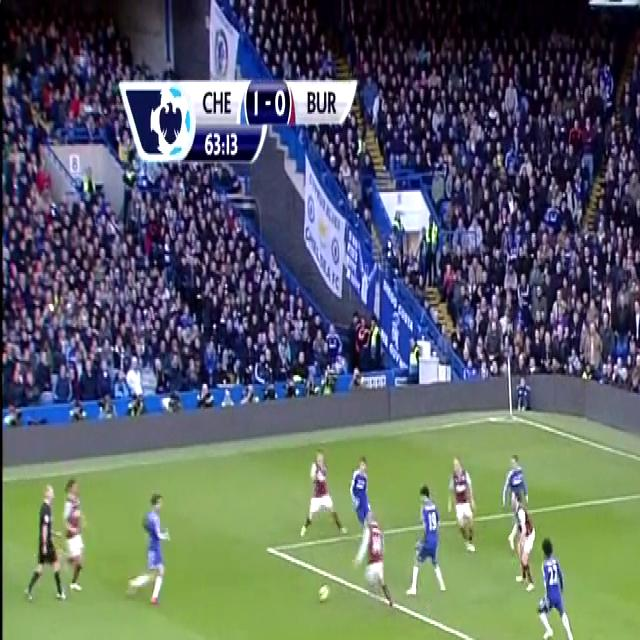ball: (319, 574, 336, 608)
referee: (26, 476, 65, 610)
soccer-player: (126, 482, 176, 610), (407, 477, 450, 609), (535, 528, 580, 640), (298, 441, 342, 544), (358, 516, 403, 616), (53, 474, 87, 606), (447, 448, 483, 558), (508, 492, 538, 594), (500, 442, 529, 540), (348, 447, 377, 537)
